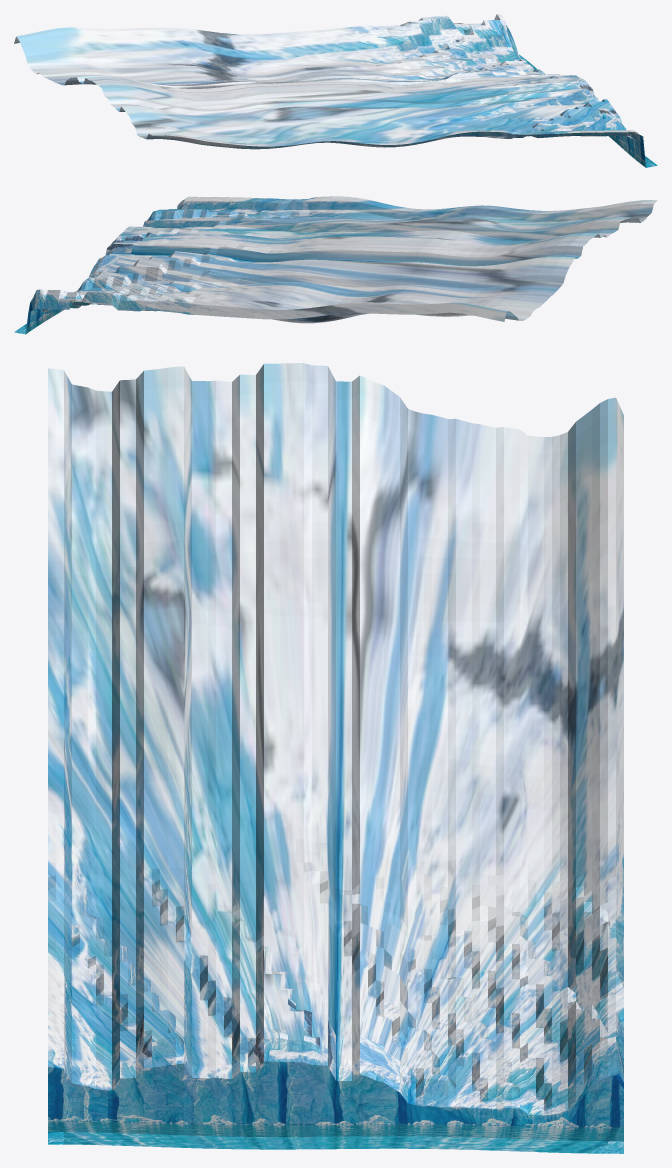
Rendered from glacier.glb.
The picture shows the model from 3 angles, top to bottom: view 1: azimuth 30°, elevation 25°; view 2: azimuth 150°, elevation 25°; view 3: azimuth 270°, elevation 25°; orthographic projection. The views are drawn at different scales.
Parts seen in each view (by area): view 1: Bank; view 2: Bank; view 3: Bank.
Boxes of the visible parts, left/top/right/bottom form: Bank: left=14, top=14, right=657, bottom=167; Bank: left=14, top=196, right=657, bottom=334; Bank: left=48, top=363, right=623, bottom=1153.
Bounding box in the file's own units: 241 × 70.73 × 120.
Materials: 3 (3 with a texture image).
